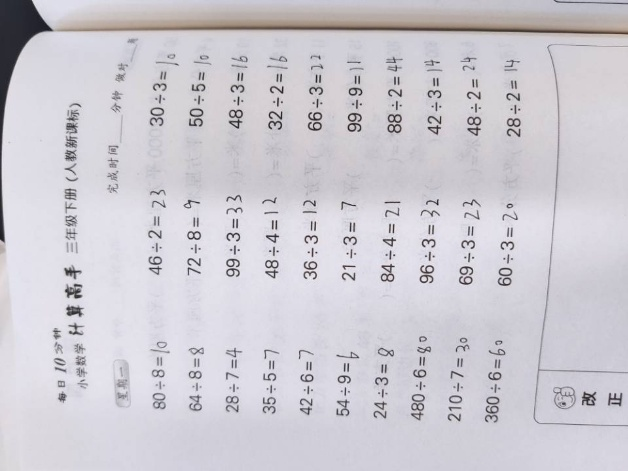equation: (290, 323, 323, 425), (218, 183, 251, 284), (498, 43, 531, 144), (142, 321, 174, 423), (256, 325, 288, 427), (217, 325, 249, 427), (179, 325, 211, 427), (257, 186, 289, 288), (180, 183, 212, 285), (413, 190, 445, 292), (374, 194, 406, 296), (331, 190, 363, 292), (296, 184, 328, 286), (442, 328, 474, 430), (400, 324, 432, 426), (366, 325, 398, 427), (184, 45, 216, 147), (419, 43, 451, 145), (137, 190, 169, 291), (490, 197, 522, 298), (452, 195, 484, 296), (478, 328, 510, 429), (328, 331, 360, 432), (300, 41, 332, 142), (264, 39, 296, 140), (223, 40, 255, 141), (146, 43, 178, 144), (378, 41, 410, 142), (340, 40, 372, 141), (455, 43, 487, 144)
